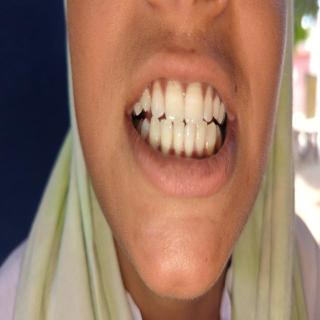maligned: (148, 114, 162, 152), (206, 120, 217, 152)
